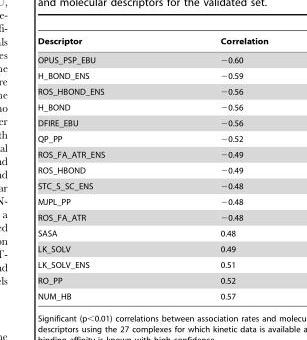table: (37, 36, 267, 300)
table column: (37, 36, 161, 300), (161, 36, 267, 300)
table column header: (37, 36, 267, 50)
table row: (37, 50, 267, 67), (37, 67, 267, 83), (37, 83, 267, 99), (37, 99, 267, 115), (37, 130, 267, 146), (37, 146, 267, 162), (37, 177, 267, 193), (37, 193, 267, 209), (37, 209, 267, 225), (37, 225, 267, 241), (37, 256, 267, 272), (37, 272, 267, 288), (37, 115, 267, 130), (37, 162, 267, 177), (37, 241, 267, 256), (37, 36, 267, 50), (37, 288, 267, 300)
